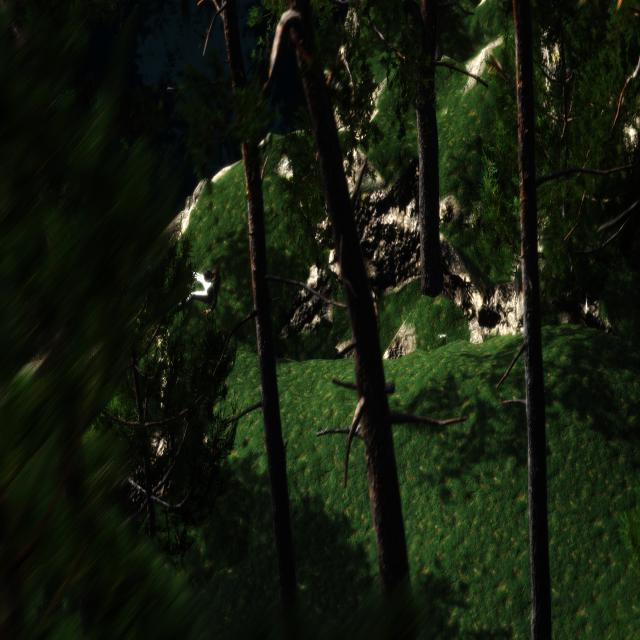Human: (180, 264, 222, 318)
